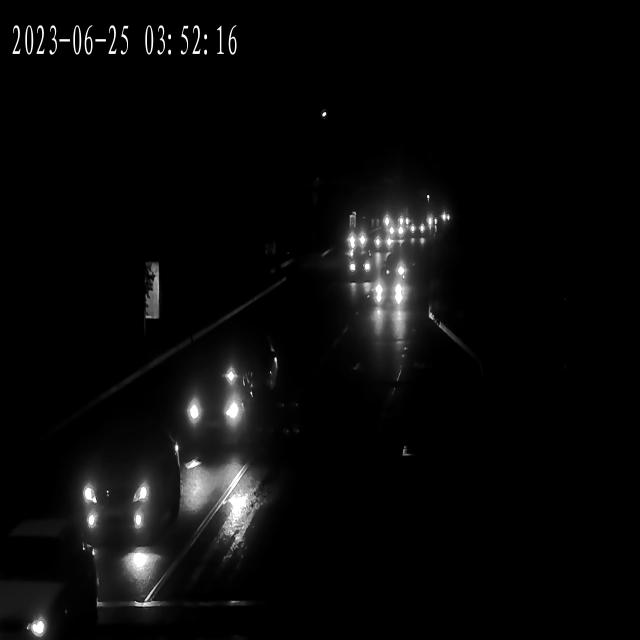Car: (67, 429, 182, 546), (0, 528, 93, 640), (214, 334, 281, 408), (183, 376, 248, 447), (370, 276, 409, 308), (346, 256, 376, 284), (380, 254, 410, 281), (346, 251, 374, 278), (341, 230, 370, 252), (369, 230, 393, 252), (370, 234, 395, 254), (386, 228, 408, 248), (406, 223, 427, 241), (384, 227, 406, 244), (382, 222, 404, 239), (407, 221, 426, 238), (432, 214, 452, 227), (393, 215, 411, 227), (422, 216, 439, 228)
